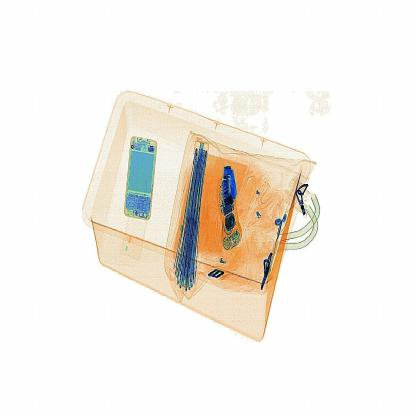scissors: (218, 158, 245, 209)
